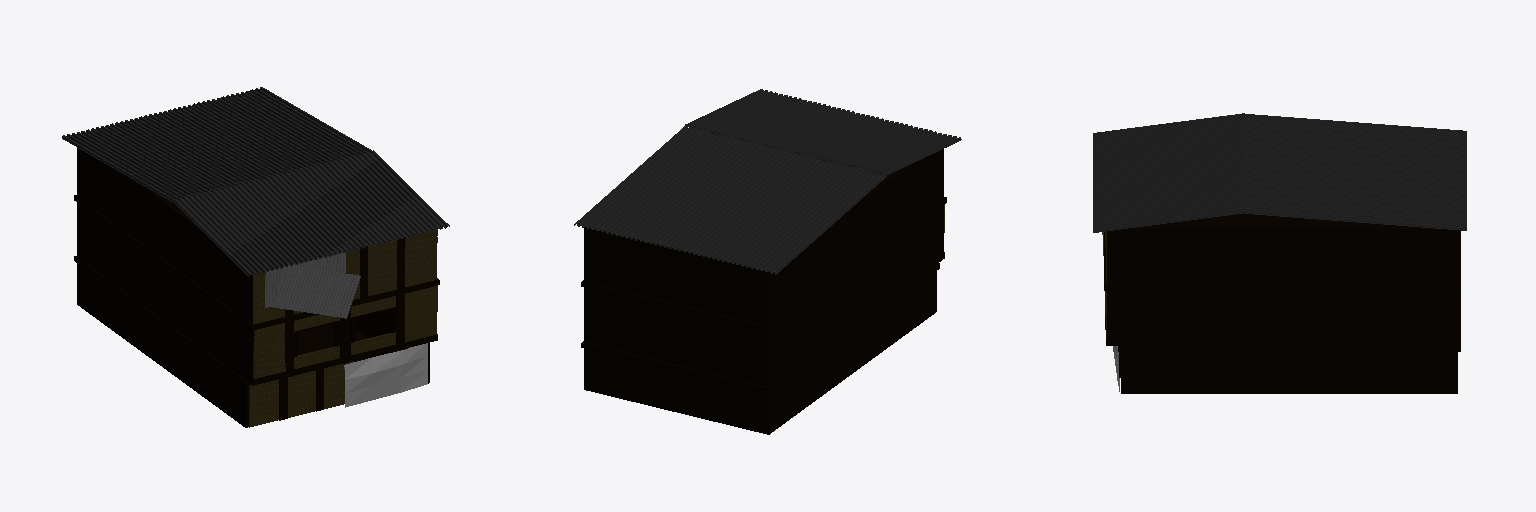
The model's file is Game_project_buildings_windowbuilding.obj.
The picture shows the model from 3 angles: view 1: azimuth 30°, elevation 25°; view 2: azimuth 150°, elevation 25°; view 3: azimuth 270°, elevation 25°; orthographic projection.
Visible parts, largest first — view 1: Asset_building5_Cube.527; view 2: Asset_building5_Cube.527; view 3: Asset_building5_Cube.527.
Boxes of the visible parts, <box> form: Asset_building5_Cube.527: <box>62,87,449,427</box>; Asset_building5_Cube.527: <box>574,89,961,434</box>; Asset_building5_Cube.527: <box>1093,113,1466,393</box>.
Bounding box in the file's own units: 10.1 × 8.94 × 16.1.